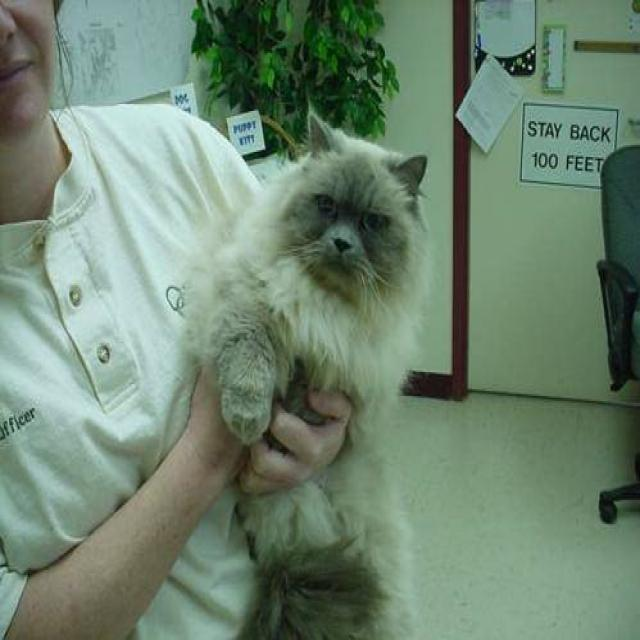cat: (178, 106, 431, 638)
